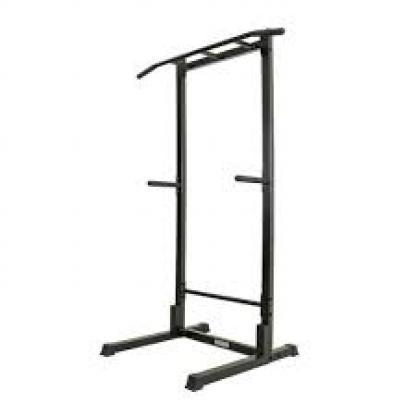chinning dipping: (101, 26, 300, 391)
